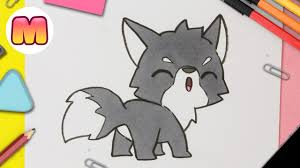Lobo: (55, 11, 233, 159)
